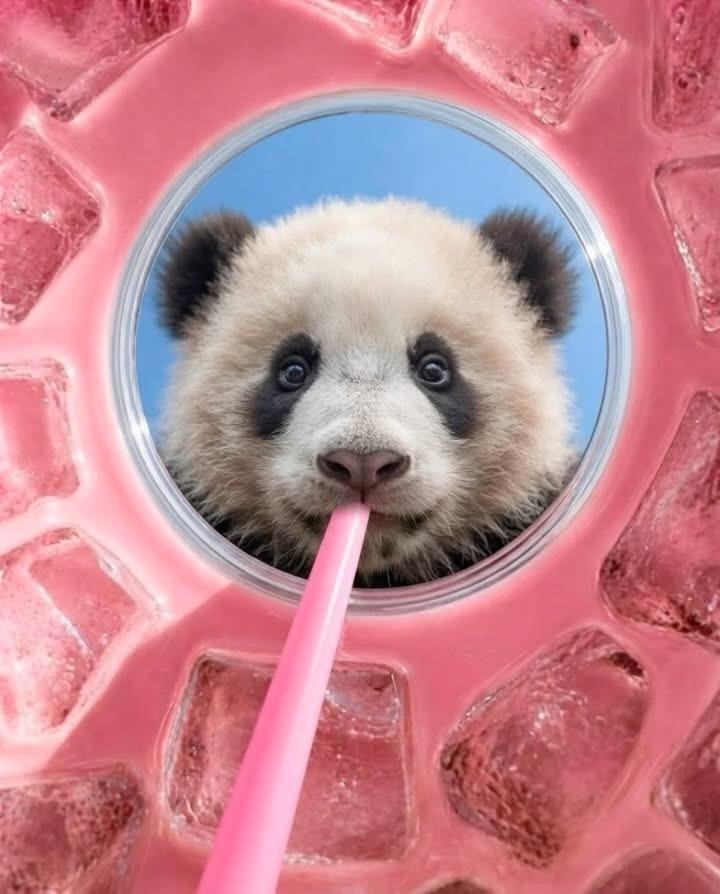non-dog: (151, 195, 584, 590)
